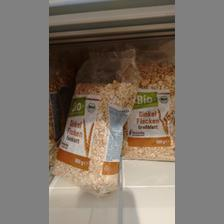Cerealien: (50, 66, 134, 194), (120, 52, 174, 160)
